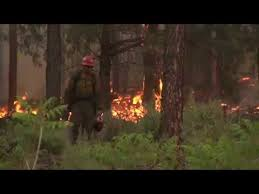fire: (110, 93, 143, 122)
